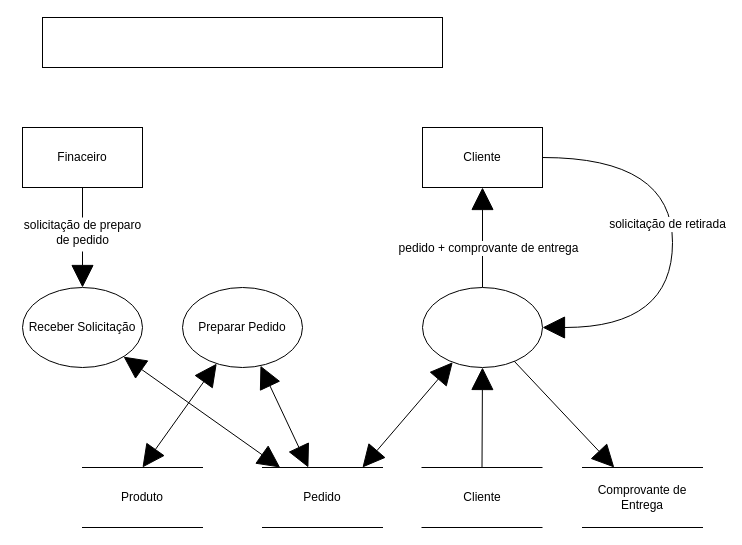
This 742x545 diagram has some shape labels left out. The shapes that lost their labels are listed below. From the top down, each one's box as (x1, y1, x2, y2) in pixels, then its label:
(42, 16, 442, 68): DFD - Tratar Empacotamento
(422, 286, 542, 368): Entregar Pedido
